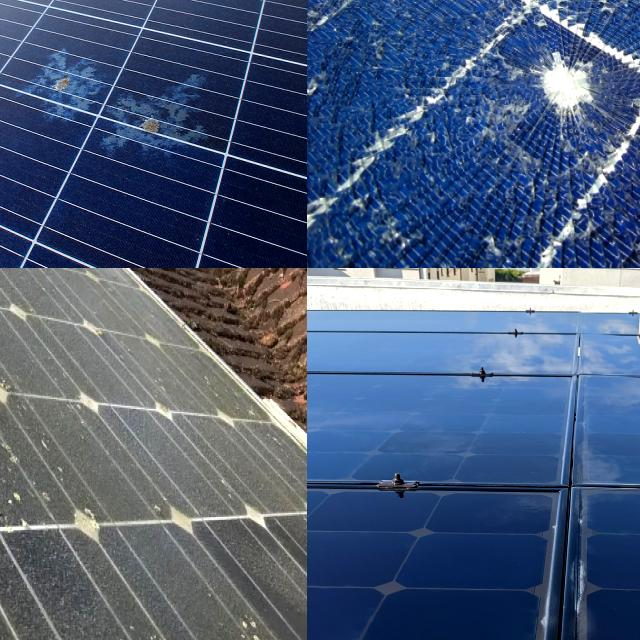bird: (108, 79, 210, 156), (24, 22, 95, 126)
crack: (354, 568, 565, 640), (386, 528, 594, 594), (307, 523, 428, 599), (568, 521, 640, 600), (461, 450, 568, 498), (307, 579, 377, 640), (569, 452, 640, 490)
dust: (4, 439, 181, 640), (190, 426, 296, 636), (74, 286, 138, 430), (0, 370, 56, 523), (0, 292, 63, 414)
hotspot: (491, 17, 626, 165)
